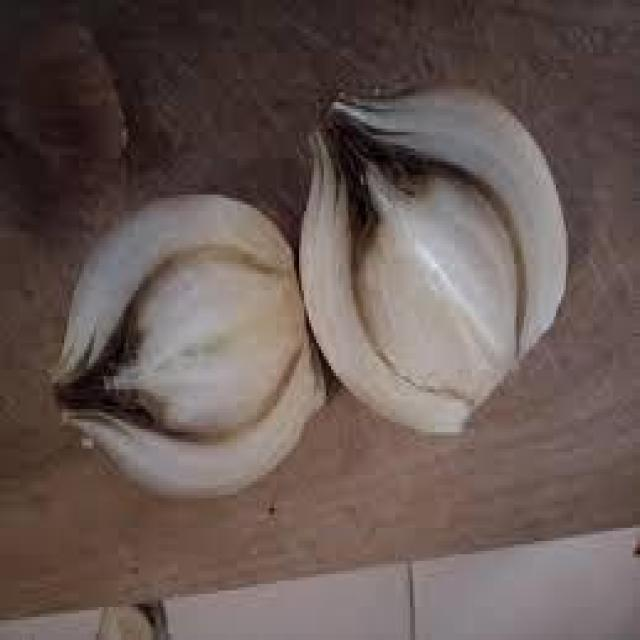Onion: (294, 76, 573, 439), (49, 185, 333, 504)
